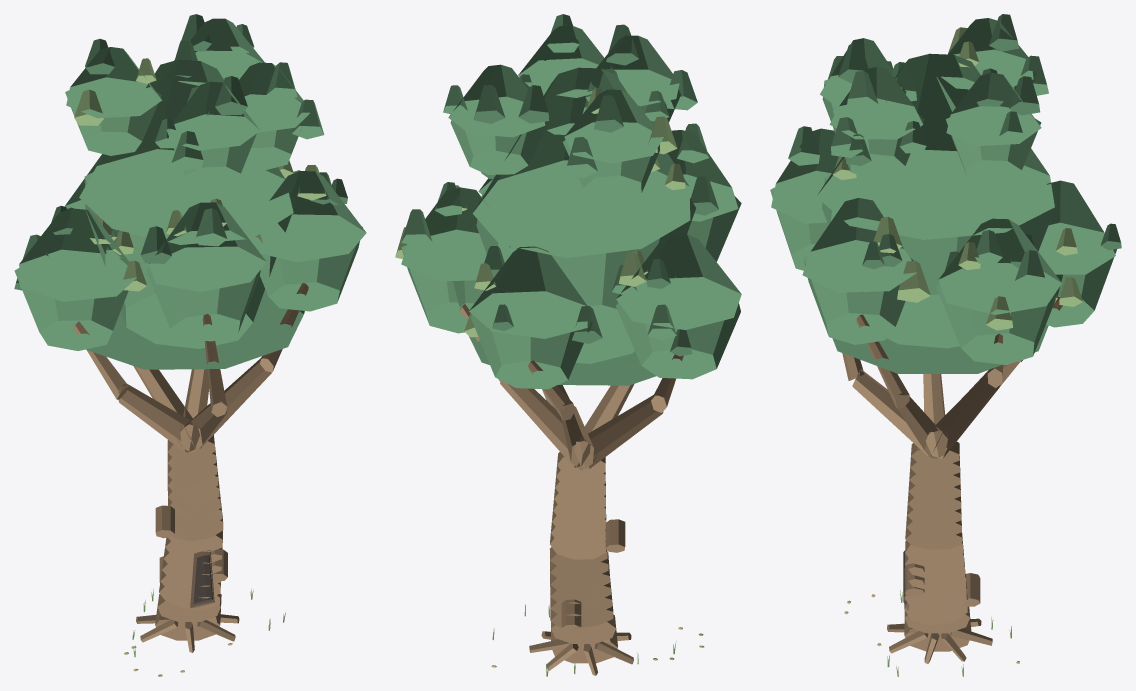
Rendered from tree_oak_old.glb.
3 renders of one model, left to right at view 1: azimuth 30°, elevation 25°; view 2: azimuth 150°, elevation 25°; view 3: azimuth 270°, elevation 25°, orthographic. The views are drawn at different scales.
Visible parts, largest first — view 1: Crown#2, Crown#8, Crown.Under, Crown#4, Crown#6, Crown#5, Crown#7, Crown, Crown#3, Crown#16, Crown#18, Crown#14 (+35 smaller); view 2: Crown#2, Crown#8, Crown#10, Crown, Crown#12, Crown#9, Crown#7, Crown#16, Crown#20, Crown#18, Crown#14, Crown#19 (+43 smaller); view 3: Crown#2, Crown#12, Crown#4, Crown, Crown#11, Crown#3, Crown#10, Crown#20, Crown.Under, Crown#14, Crown#6, Crown#19 (+41 smaller).
Boxes of the visible parts, x1,y1,x2,y2 form: Crown#2: [79, 59, 293, 244]; Crown#8: [19, 208, 136, 301]; Crown.Under: [86, 289, 304, 369]; Crown#4: [249, 171, 366, 262]; Crown#6: [149, 202, 266, 291]; Crown#5: [146, 267, 260, 341]; Crown#7: [14, 268, 128, 350]; Crown: [84, 172, 296, 348]; Crown#3: [260, 226, 362, 311]; Crown#16: [66, 47, 162, 118]; Crown#18: [168, 81, 259, 150]; Crown#14: [219, 62, 309, 132]; Crown#2: [472, 67, 690, 258]; Crown#8: [616, 234, 741, 329]; Crown#10: [469, 246, 587, 338]; Crown: [476, 190, 695, 363]; Crown#12: [401, 187, 517, 281]; Crown#9: [470, 314, 592, 389]; Crown#7: [616, 303, 740, 379]; Crown#16: [564, 89, 663, 163]; Crown#20: [448, 64, 545, 137]; Crown#18: [596, 35, 679, 106]; Crown#14: [518, 25, 612, 97]; Crown#19: [450, 120, 547, 174]; Crown#2: [816, 53, 1054, 239]; Crown#12: [938, 218, 1061, 314]; Crown#4: [802, 198, 916, 292]; Crown: [822, 174, 1059, 348]; Crown#11: [936, 283, 1056, 364]; Crown#3: [803, 255, 913, 344]; Crown#10: [1020, 180, 1115, 274]; Crown#20: [946, 73, 1041, 146]; Crown.Under: [832, 274, 1062, 373]; Crown#14: [829, 67, 923, 139]; Crown#6: [771, 128, 838, 223]; Crown#19: [946, 117, 1041, 184].
Size of the model in its own units: 9 by 16.1 by 8.57.
